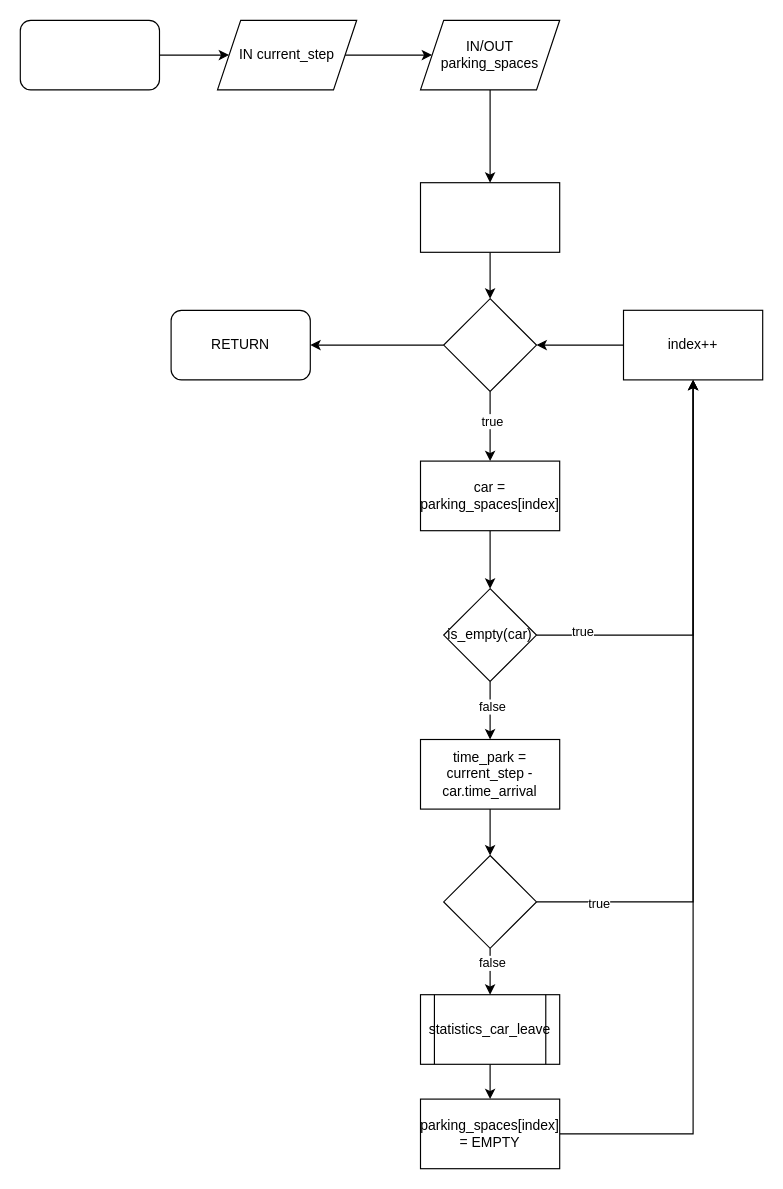
The diagram is 783 pixels wide and 1189 high, and some of its shapes have lost their labels. Each missing label, with the centre of its shape:
index < NUM_PARKING_SPACES: the point at 489,345
index = 0: the point at 489,217
remove_due_cars: the point at 89,54
time_park < car.time_park_duration: the point at 489,901
